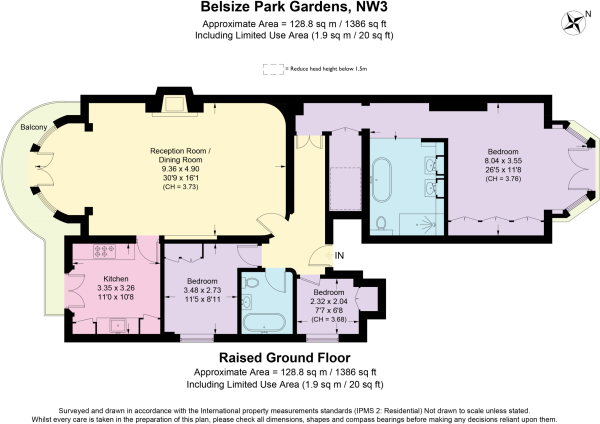GardenMeasurements: (199, 17, 390, 30)
